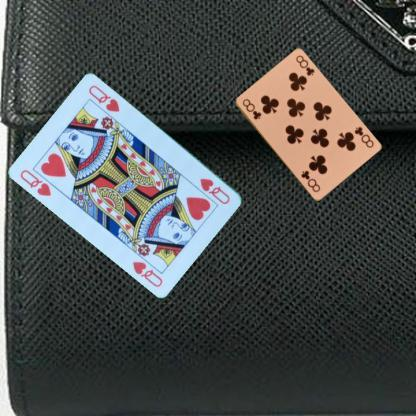8c: (351, 124, 375, 149), (240, 96, 262, 121)
Qh: (17, 167, 53, 198), (197, 175, 232, 206)
